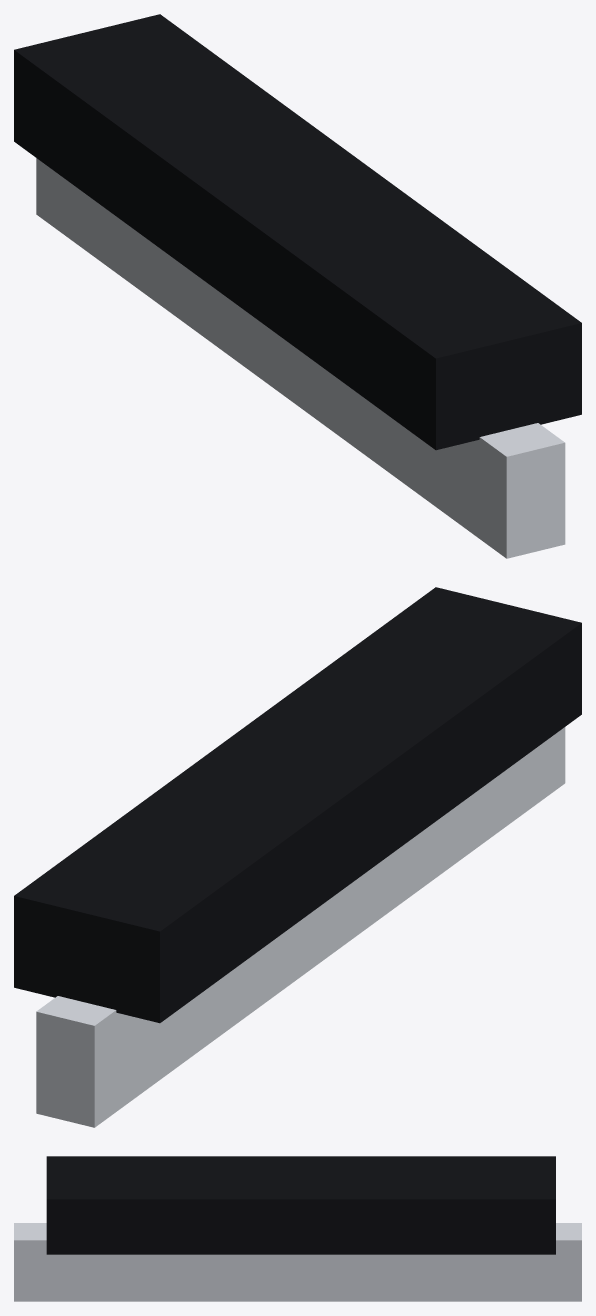
Rendered from blade.glb.
The picture shows the model from 3 angles, top to bottom: view 1: azimuth 30°, elevation 25°; view 2: azimuth 150°, elevation 25°; view 3: azimuth 270°, elevation 25°; orthographic projection. The views are drawn at different scales.
Visible parts, largest first — view 1: ice_blade_body; view 2: ice_blade_body; view 3: ice_blade_body.
Part boxes in pixels (x1,y1,x2,y2): ice_blade_body: (14,14,581,558); ice_blade_body: (14,587,581,1127); ice_blade_body: (14,1156,581,1301).
Bounding box in the file's own units: 0.06 × 0.075 × 0.3346.
Materials: 1 (1 with a texture image).
